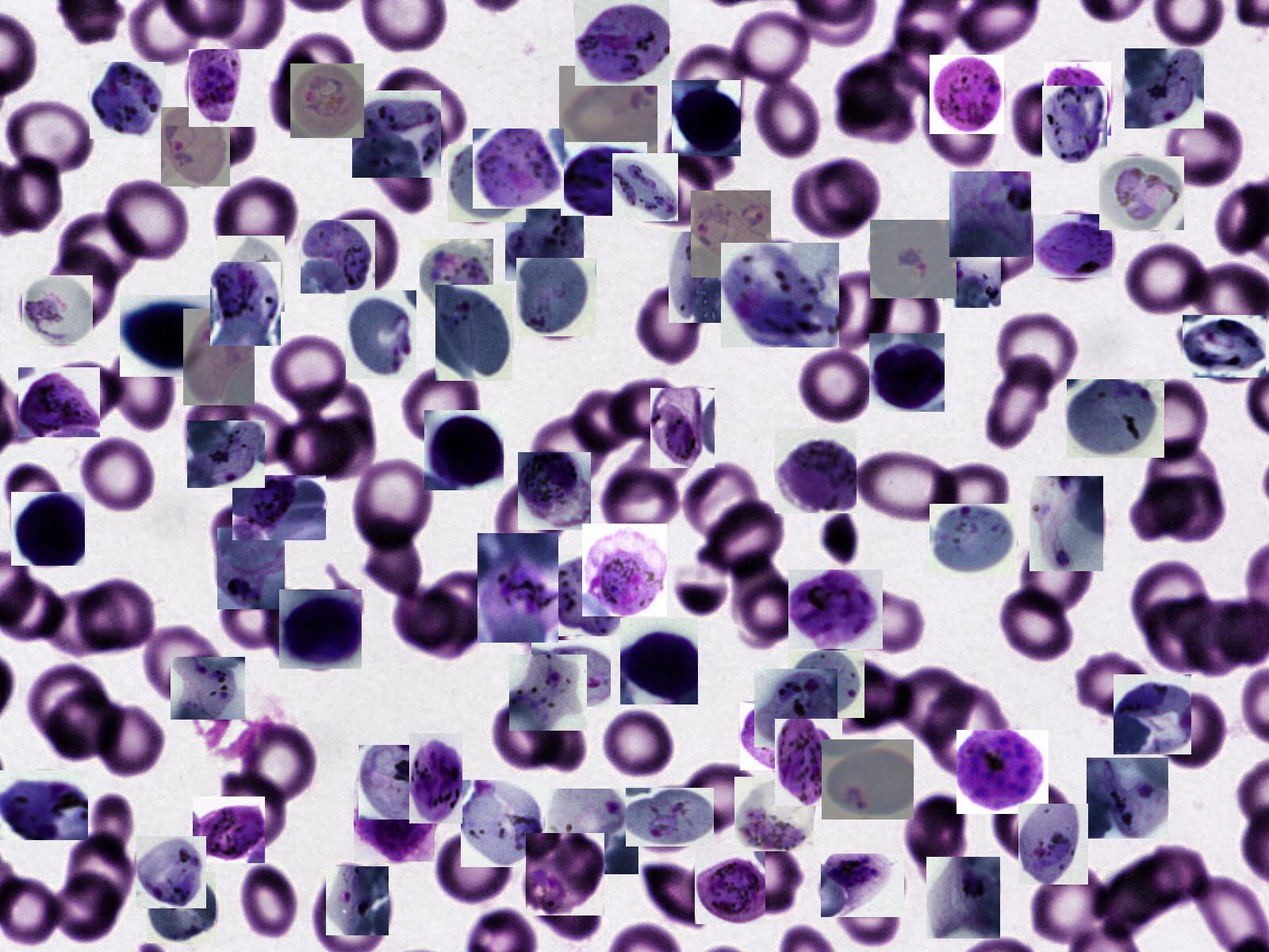Infected: (721, 243, 839, 347), (477, 533, 558, 643), (559, 66, 658, 155), (120, 295, 224, 377), (575, 0, 669, 86), (352, 90, 441, 178), (546, 789, 638, 874), (582, 524, 667, 616), (957, 730, 1049, 814), (1067, 379, 1164, 458), (788, 570, 883, 649), (822, 739, 914, 820), (435, 285, 512, 381), (461, 780, 545, 867), (473, 129, 564, 209), (949, 171, 1031, 257), (691, 190, 771, 278), (1029, 476, 1103, 571), (775, 428, 857, 513), (183, 309, 255, 405), (358, 745, 450, 820), (870, 221, 957, 299), (620, 618, 698, 704), (279, 589, 362, 669), (1087, 758, 1168, 839), (354, 781, 435, 862), (546, 555, 627, 636), (754, 669, 838, 747), (526, 833, 604, 916), (424, 410, 504, 490), (1125, 48, 1204, 129), (561, 142, 647, 216), (505, 202, 584, 282), (1099, 156, 1184, 230), (669, 232, 738, 323), (516, 258, 596, 336), (930, 504, 1017, 575), (1114, 674, 1191, 754), (347, 290, 416, 379), (232, 475, 326, 540), (448, 144, 526, 222), (0, 771, 88, 840), (926, 857, 1000, 939), (509, 654, 587, 731), (869, 333, 945, 412), (210, 262, 281, 346), (734, 777, 814, 851), (90, 62, 166, 139), (930, 55, 1004, 134), (189, 49, 263, 127), (420, 239, 493, 318), (776, 719, 842, 806), (18, 367, 100, 437), (518, 452, 591, 530), (1018, 804, 1088, 885), (290, 63, 364, 138), (695, 845, 765, 924), (217, 528, 285, 609), (11, 492, 85, 566), (301, 220, 375, 294), (161, 107, 230, 186), (740, 701, 818, 770), (531, 640, 611, 707), (187, 420, 265, 488), (673, 80, 742, 156), (1183, 315, 1266, 378), (821, 854, 904, 917), (650, 388, 715, 468), (217, 236, 285, 312), (788, 651, 865, 718), (626, 788, 714, 846), (1033, 214, 1112, 278), (136, 836, 206, 908), (1042, 86, 1107, 163), (1044, 62, 1111, 136), (22, 275, 93, 344), (147, 872, 216, 943), (409, 733, 462, 823), (193, 797, 265, 863), (171, 657, 245, 720), (943, 228, 1001, 308), (612, 153, 678, 221), (327, 866, 389, 935)
Uninfected: (1133, 585, 1248, 675), (1130, 562, 1225, 662), (24, 664, 121, 761), (347, 451, 439, 553), (221, 720, 316, 812), (677, 462, 770, 555), (838, 50, 923, 149), (213, 173, 301, 267), (371, 67, 466, 154), (849, 445, 959, 519), (100, 178, 190, 267), (992, 311, 1080, 401), (991, 771, 1075, 865), (1015, 527, 1099, 621), (400, 362, 485, 453), (886, 668, 972, 755), (959, 199, 1046, 285), (930, 685, 1010, 777), (361, 121, 437, 216), (1125, 239, 1211, 321), (727, 6, 813, 88), (42, 243, 117, 337), (1132, 378, 1212, 466), (217, 576, 303, 657), (140, 621, 220, 708), (921, 73, 994, 167), (392, 582, 481, 659), (834, 580, 924, 656), (1160, 108, 1242, 191), (680, 762, 767, 840), (694, 498, 784, 573), (78, 433, 158, 517), (493, 477, 568, 566), (520, 413, 611, 486), (599, 456, 680, 538), (1072, 650, 1158, 727), (751, 73, 825, 162), (0, 106, 93, 175), (1025, 869, 1114, 941), (999, 582, 1075, 666), (1147, 687, 1226, 767), (523, 140, 600, 221), (327, 209, 402, 290), (925, 460, 1006, 535), (279, 32, 364, 103), (829, 658, 911, 731), (190, 80, 258, 168), (75, 578, 154, 653), (811, 271, 892, 344), (431, 825, 510, 898), (41, 589, 127, 656), (792, 154, 860, 238), (908, 790, 968, 885), (110, 343, 174, 432), (734, 578, 816, 647), (1010, 80, 1079, 162), (60, 217, 138, 289), (634, 288, 705, 367), (867, 274, 936, 355), (229, 859, 297, 941), (88, 700, 163, 774), (730, 841, 803, 917), (65, 832, 131, 916), (530, 869, 604, 943), (489, 701, 564, 774), (676, 41, 747, 118), (275, 415, 354, 482), (523, 691, 587, 773), (273, 336, 349, 405), (795, 348, 872, 416), (644, 155, 718, 225), (6, 461, 71, 539), (431, 571, 500, 644), (205, 505, 282, 570), (266, 54, 328, 132), (57, 870, 124, 941), (642, 858, 715, 922), (574, 390, 643, 457), (594, 714, 669, 774), (313, 416, 379, 484), (611, 380, 685, 439), (667, 124, 742, 182), (49, 361, 116, 423), (818, 162, 880, 223)
